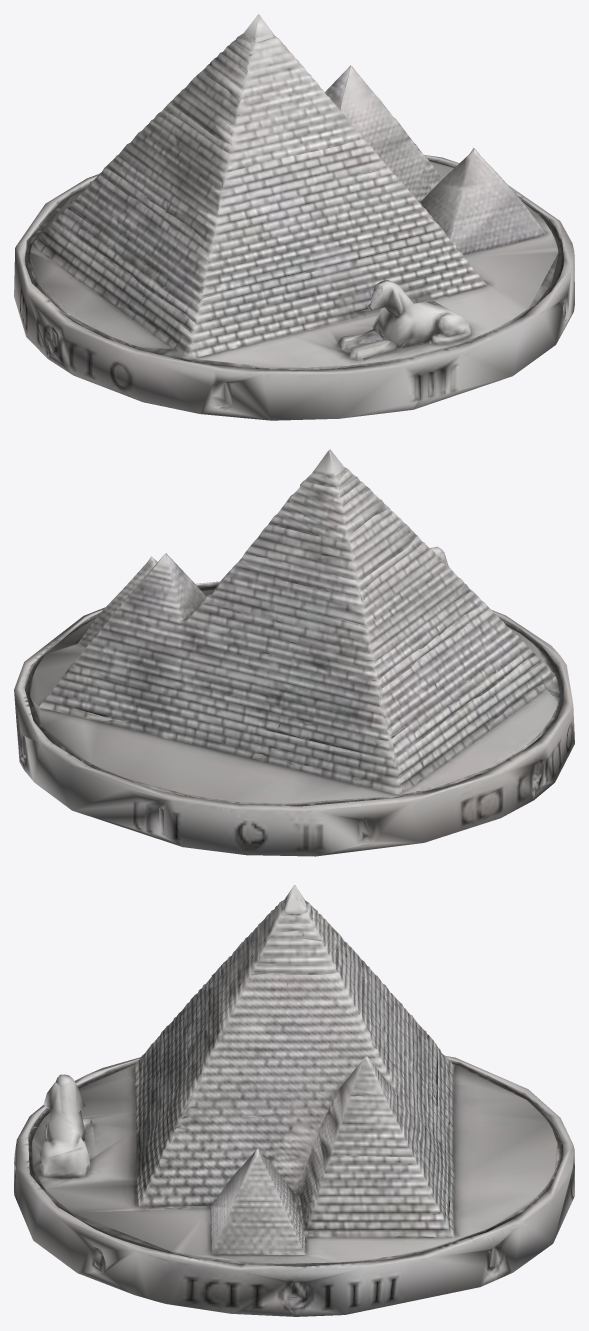
Rendered from pyramid_giza_silver.glb.
3 views of the same model, one above another, from view 1: azimuth 30°, elevation 25°; view 2: azimuth 150°, elevation 25°; view 3: azimuth 270°, elevation 25° (orthographic).
Parts seen in each view (by area): view 1: Mesh_0; view 2: Mesh_0; view 3: Mesh_0.
Boxes of the visible parts, x1,y1,x2,y2 form: Mesh_0: (14,14,574,420); Mesh_0: (14,449,574,856); Mesh_0: (14,885,574,1316).
Bounding box in the file's own units: 1.91 × 1.12 × 1.91.
1 material, 1 textured.
